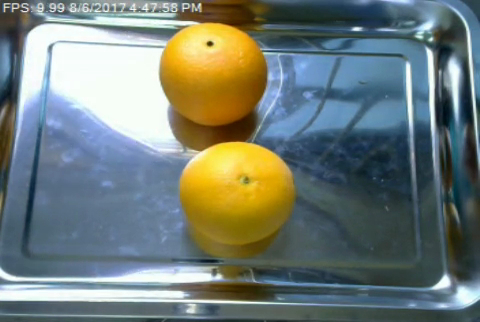Orange: (177, 139, 294, 242), (157, 22, 268, 126)
